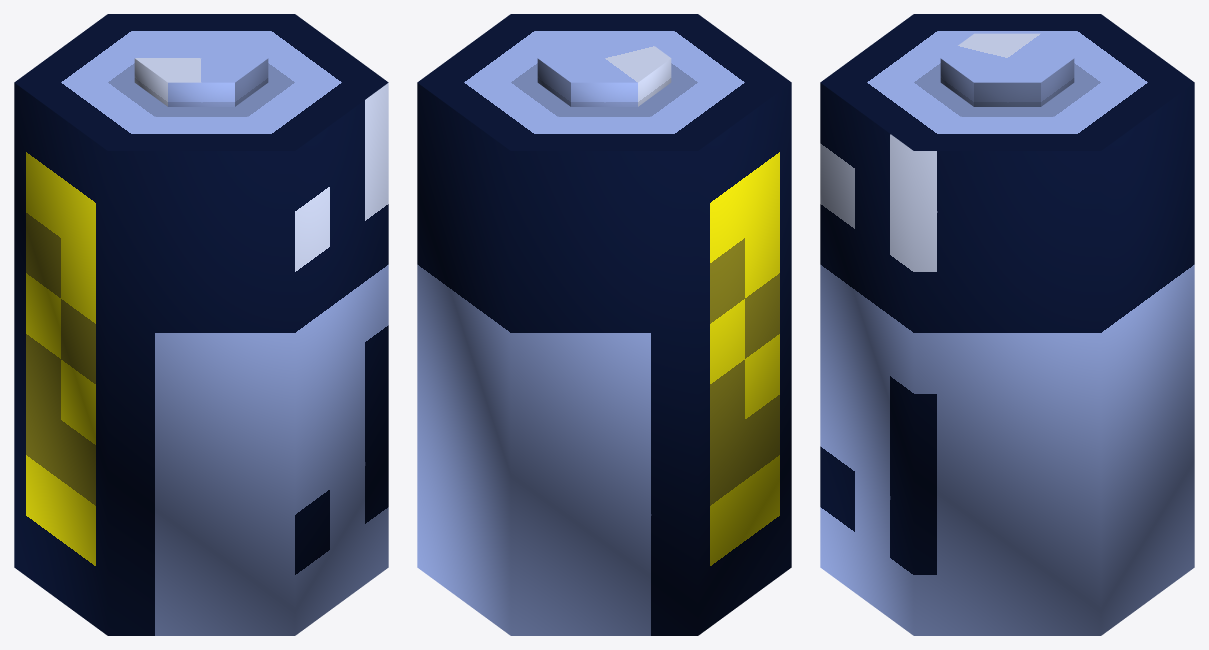
The model's file is Battery.fbx.
The picture shows the model from 3 angles, left to right: view 1: azimuth 30°, elevation 25°; view 2: azimuth 150°, elevation 25°; view 3: azimuth 270°, elevation 25°; orthographic projection.
Visible parts, largest first — view 1: Cylinder, Cylinder.001; view 2: Cylinder, Cylinder.001; view 3: Cylinder, Cylinder.001.
Boxes of the visible parts, box(x1,y1,x2,y2) form: Cylinder: box(14, 14, 388, 635); Cylinder.001: box(134, 33, 268, 106); Cylinder: box(417, 14, 791, 635); Cylinder.001: box(537, 33, 671, 106); Cylinder: box(820, 14, 1194, 635); Cylinder.001: box(940, 33, 1074, 106).
Bounding box in the file's own units: 121 × 210 × 140.
